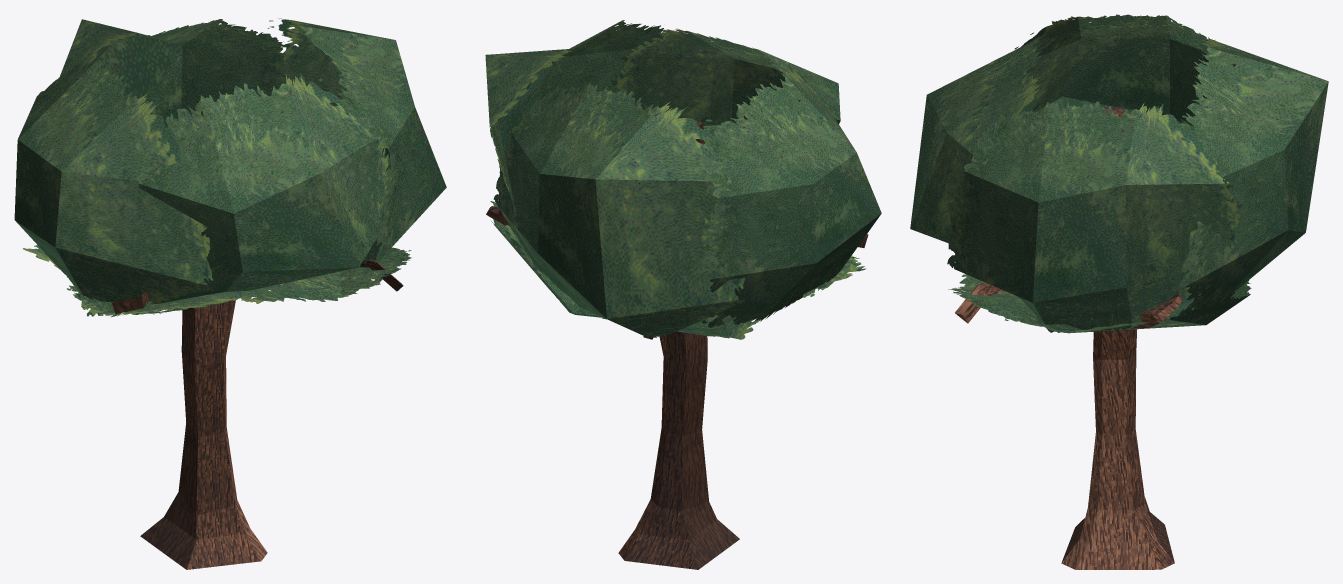
The model's file is tree.obj.
3 renders of one model, left to right at view 1: azimuth 30°, elevation 25°; view 2: azimuth 150°, elevation 25°; view 3: azimuth 270°, elevation 25°, orthographic. The views are drawn at different scales.
Parts seen in each view (by area): view 1: tree1; view 2: tree1; view 3: tree1.
Part boxes in pixels (x1=…): tree1: x1=14, y1=18, x2=446, y2=569; tree1: x1=485, y1=20, x2=881, y2=569; tree1: x1=910, y1=14, x2=1328, y2=569.
Bounding box in the file's own units: 9.88 × 12.38 × 9.44.
Materials: 2 (2 with a texture image).
